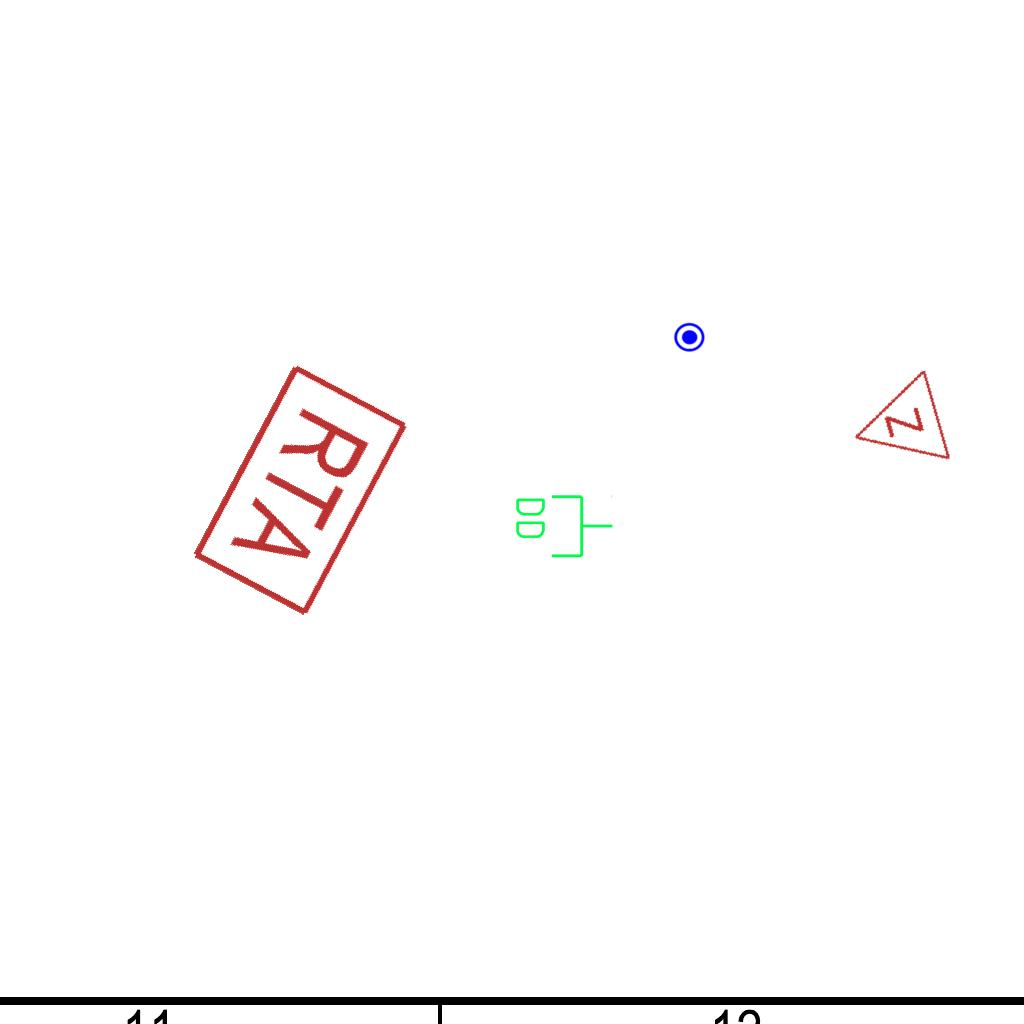Datenanschluss_zweifach: (512, 491, 615, 560)
Ruf-und_Abstelltaster: (186, 354, 416, 622)
Taster: (673, 322, 706, 355)
Zimmersignalleuchte: (835, 366, 959, 488)
